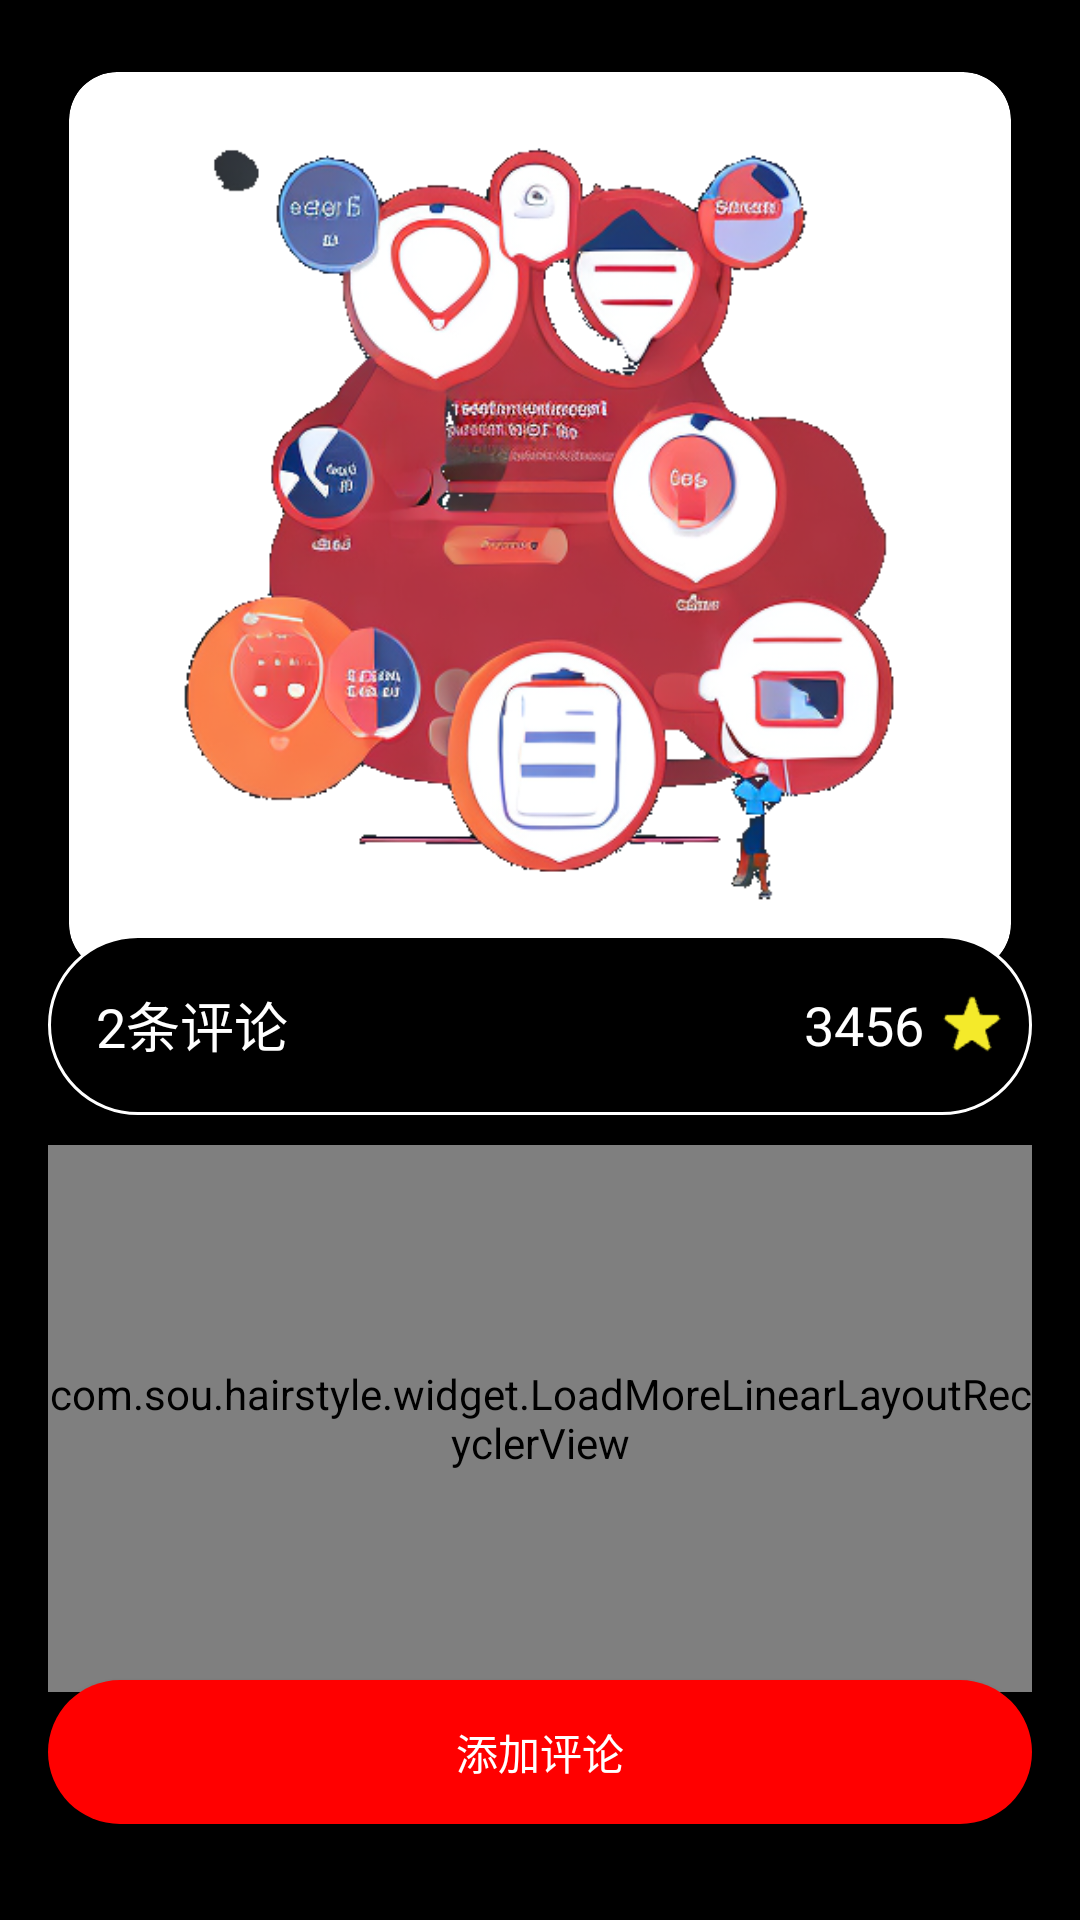

Where to tap for icons on this 1080w x 1920h app screen, as point (x, y):
stared: point (972, 1023)
